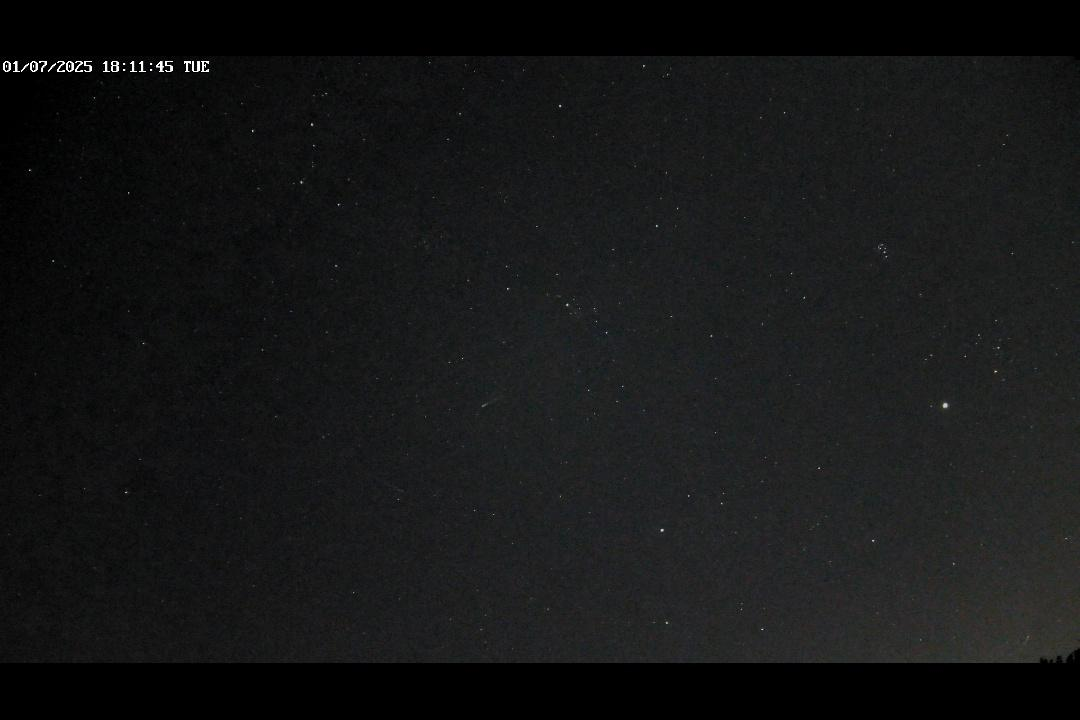Plane: (370, 472, 414, 494), (1011, 630, 1036, 657), (474, 394, 508, 410)
